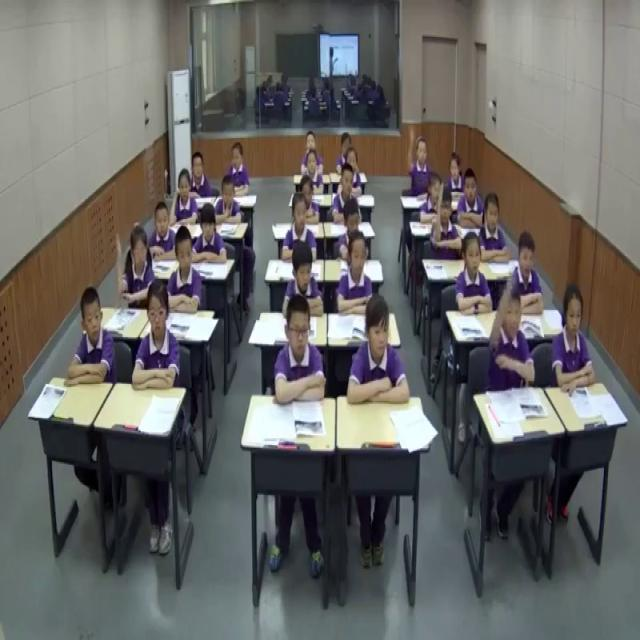focused: (346, 294, 409, 407), (275, 298, 326, 405), (133, 279, 181, 389), (68, 288, 118, 389), (552, 282, 596, 390), (456, 230, 495, 316), (282, 239, 325, 314), (337, 231, 374, 314), (510, 232, 546, 315), (168, 226, 201, 316), (190, 201, 229, 268), (282, 192, 318, 264), (480, 194, 512, 261), (145, 200, 180, 261), (337, 199, 373, 257), (170, 168, 202, 231), (456, 168, 488, 227), (226, 134, 254, 193), (334, 164, 360, 223), (295, 174, 322, 228), (217, 176, 243, 230), (190, 152, 212, 202), (344, 149, 366, 196), (304, 151, 326, 194), (304, 132, 326, 174), (448, 157, 464, 196)
raising_hand: (489, 264, 540, 396), (115, 222, 156, 316), (432, 179, 465, 261), (405, 121, 434, 196)
